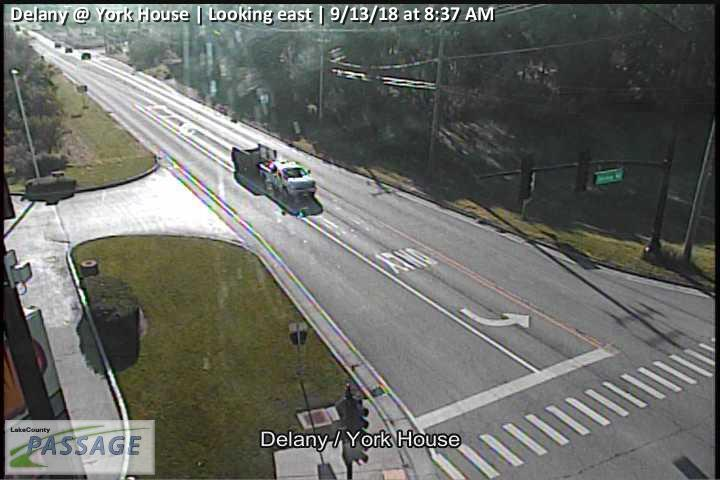Truck: (259, 157, 317, 201)
